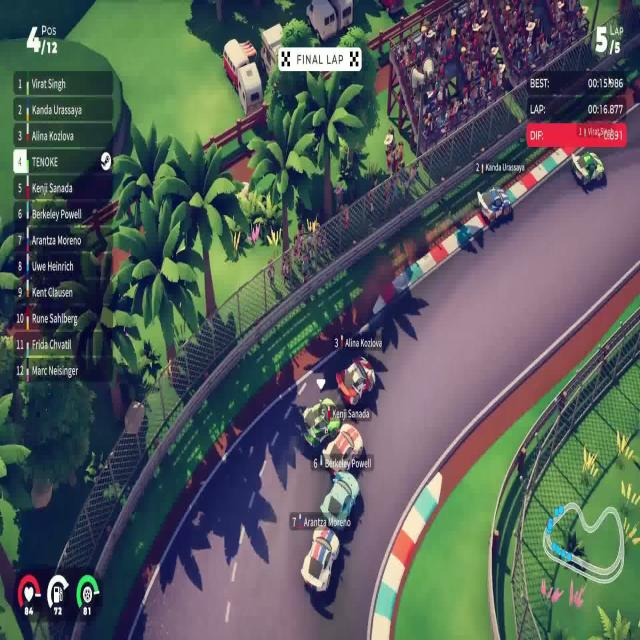car: (300, 525, 340, 594), (319, 470, 360, 530), (335, 355, 376, 408), (321, 422, 364, 471), (302, 396, 342, 448), (476, 185, 512, 227), (572, 151, 606, 187)
